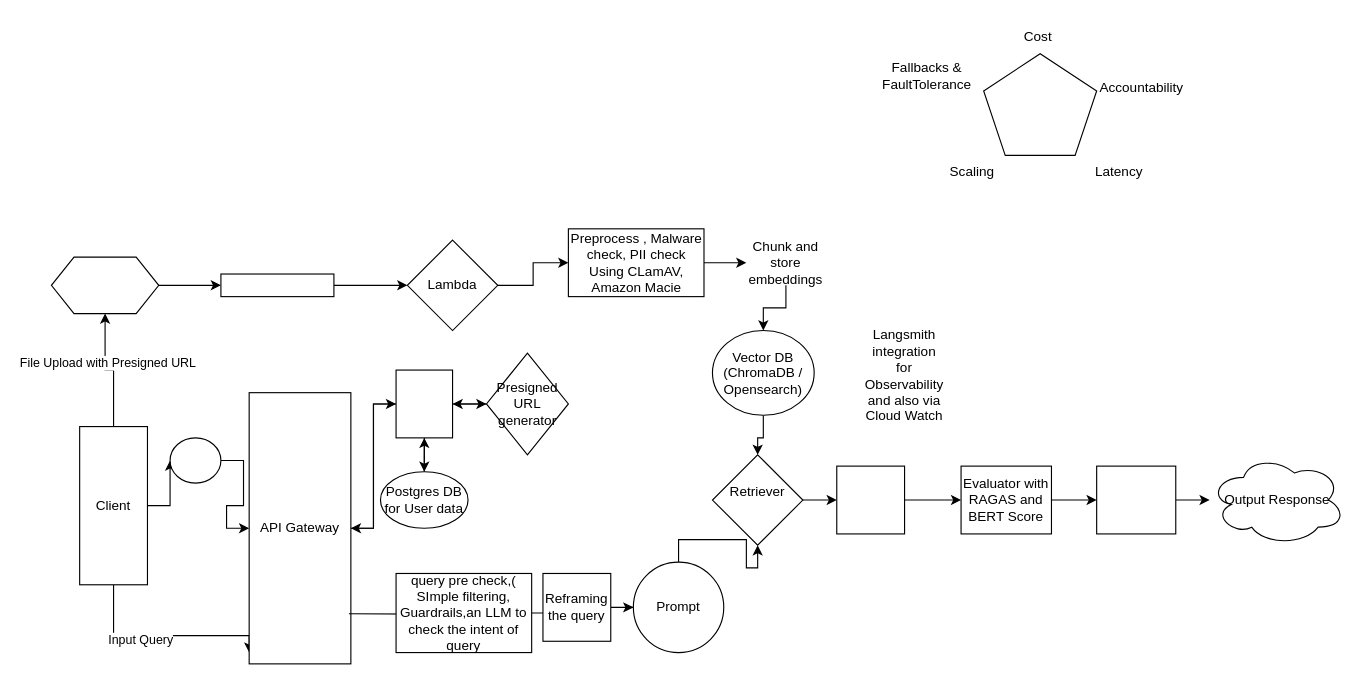
This 1365x684 diagram has some shape labels left out. The box of each missing label's shape, as (x1, y1, x2, y2) in pixels:
CDN: (169, 437, 221, 483)
LLM: (836, 465, 905, 534)
LLM as Judge and Output Guardrail: (1096, 465, 1176, 534)
S3: (50, 256, 159, 314)
SQS: (220, 273, 334, 297)
User Auth: (395, 369, 453, 438)
